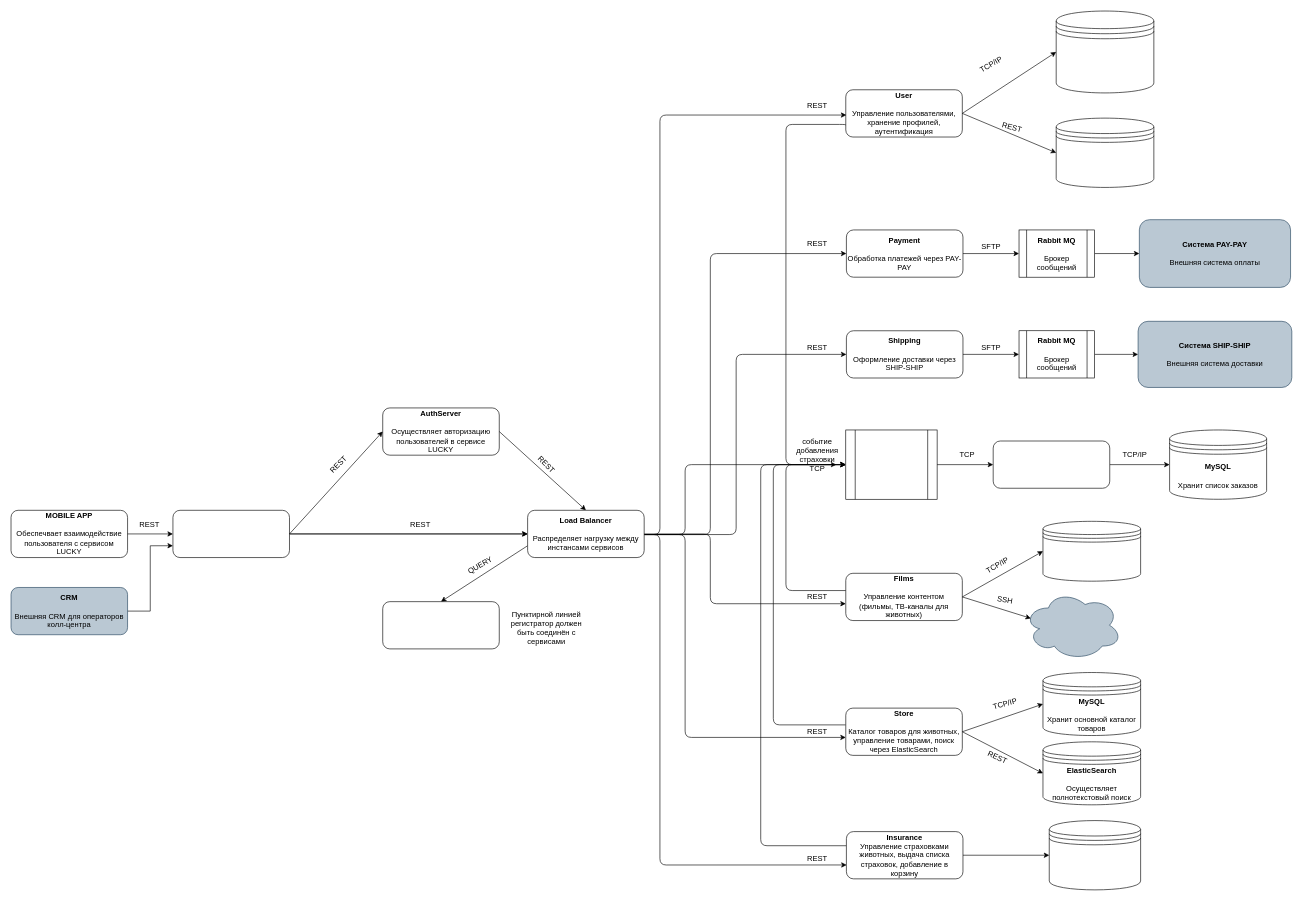
This 1303x901 diagram has some shape labels left out. Here are the shapes that lost their labels. From the top down, the centre of each, then its label:
At point (1105, 51): "MySQL Хранит профили пользователей".
At point (1105, 152): "Redis Обеспечивает кэширование".
At point (891, 464): "Kafka Обеспечивает обмен сообщениями между сервисами".
At point (1051, 464): "Shopping cart Корзина заказов, добавление/удаление товаров и страховок".
At point (230, 534): "API GATEWAY Единая точка входа для мобильного приложения и CRM".
At point (1091, 551): "MySQL Хранит метаданные фильмов".
At point (440, 625): "SERVICE REGISTRY Хранит адреса инстансов микросервисов".
At point (1072, 625): "Amazon S3 Хранит видеофайлы и медиа".
At point (1095, 855): "MongoDB Хранит описания страховок для животных".
